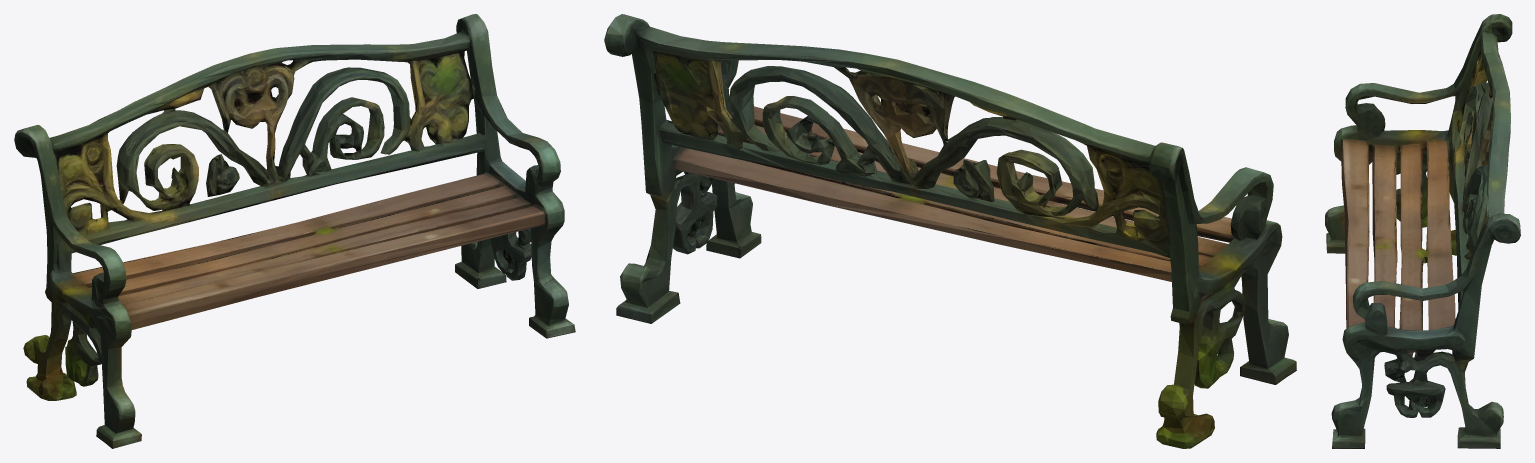
The model's file is garden-bench.glb.
3 renders of one model, left to right at view 1: azimuth 30°, elevation 25°; view 2: azimuth 150°, elevation 25°; view 3: azimuth 270°, elevation 25°, orthographic. The views are drawn at different scales.
Parts seen in each view (by area): view 1: world; view 2: world; view 3: world.
Boxes of the visible parts, x1,y1,x2,y2 form: world: [14, 14, 575, 448]; world: [604, 14, 1296, 448]; world: [1325, 14, 1520, 448].
Bounding box in the file's own units: 0.9945 × 0.5427 × 0.3926.
Materials: 1 (1 with a texture image).
